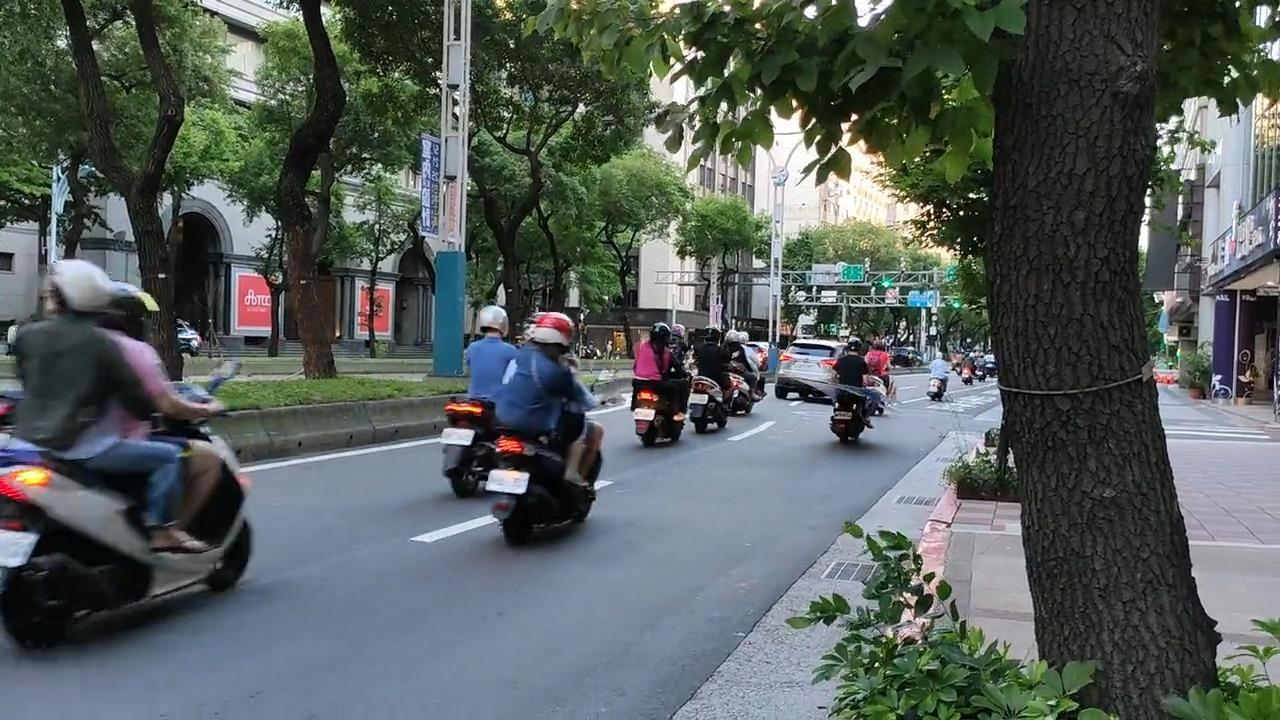driver: (0, 258, 252, 648), (485, 311, 618, 547), (440, 305, 520, 498), (630, 322, 695, 447), (689, 326, 740, 433)
helmet: (41, 258, 114, 320), (109, 280, 161, 341), (534, 311, 574, 355), (479, 305, 509, 340), (650, 323, 672, 348), (704, 326, 720, 346)
